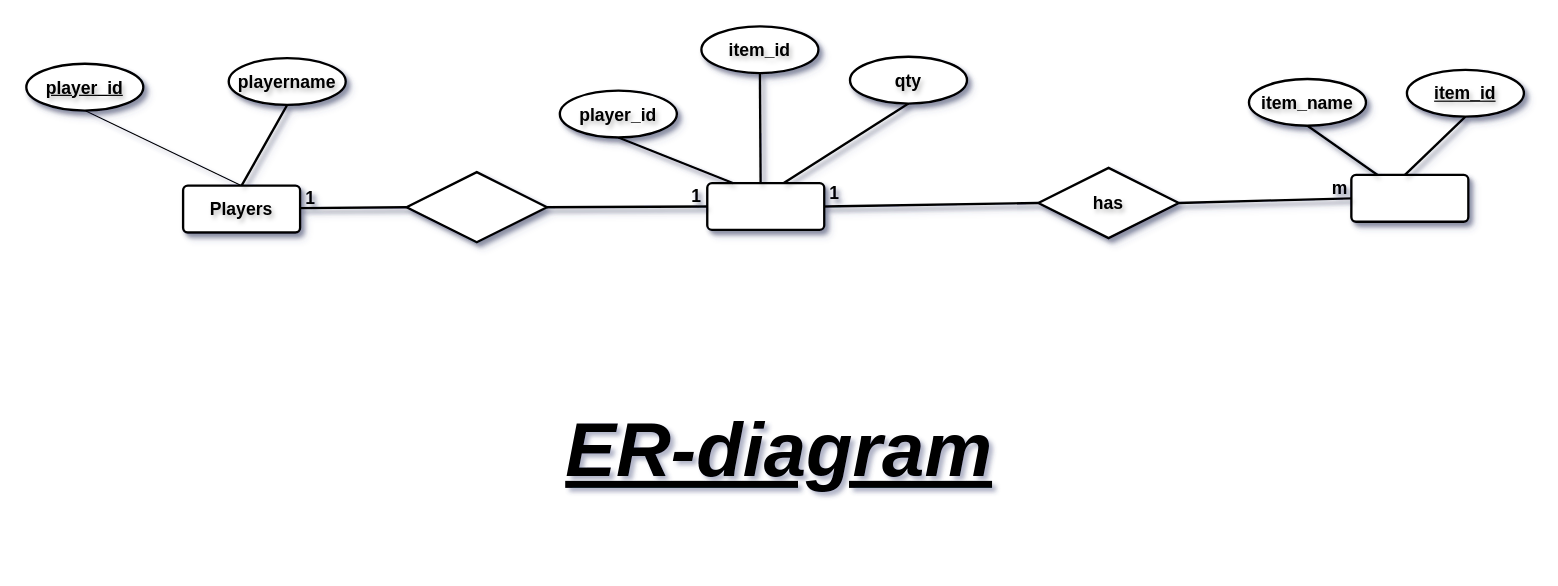
The diagram is 1558 pixels wide and 586 high, and some of its shapes have lost their labels. The shapes that lost their labels are listed below. From the top down, each one's centre as x and y in pixels, then its label:
point (477, 208): posess
point (766, 208): inventory
point (1410, 199): items
